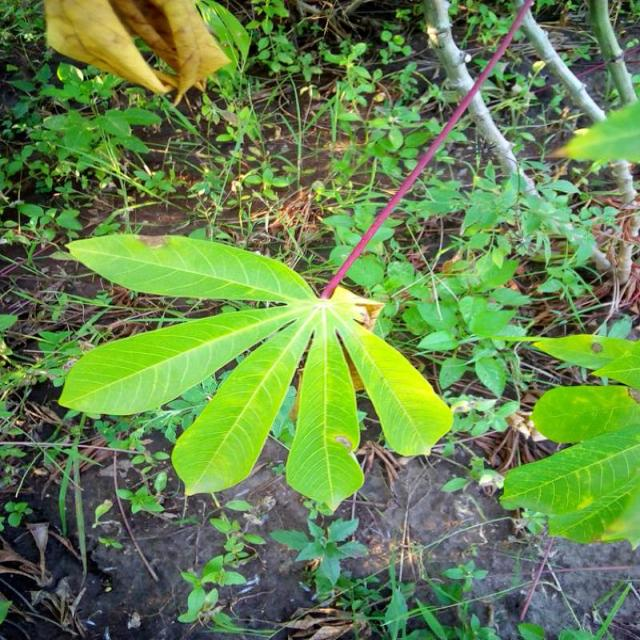cassava leaf: (58, 229, 455, 514)
